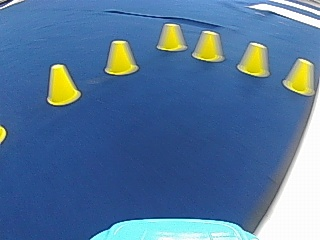cone: (46, 64, 81, 105), (283, 58, 316, 96), (237, 42, 271, 78), (104, 41, 138, 76), (193, 31, 224, 62), (157, 23, 187, 52)
